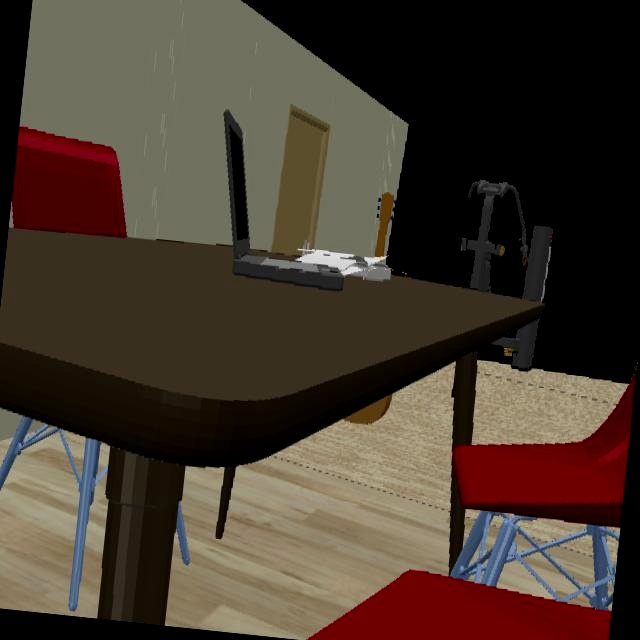book: (290, 249, 391, 279)
chair: (306, 363, 636, 640), (10, 128, 126, 238), (66, 438, 104, 614)
laptop: (223, 109, 344, 290)
table: (0, 227, 544, 625)
